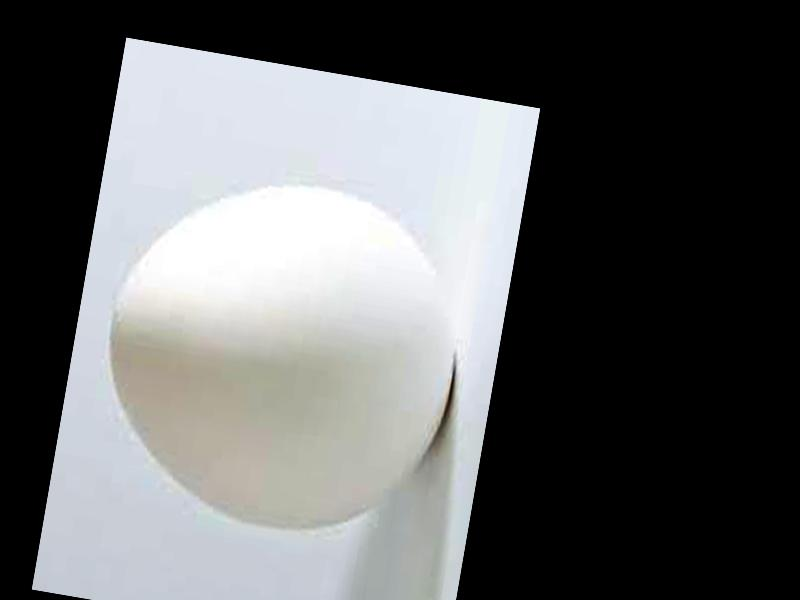Eggs: (81, 157, 480, 550)
